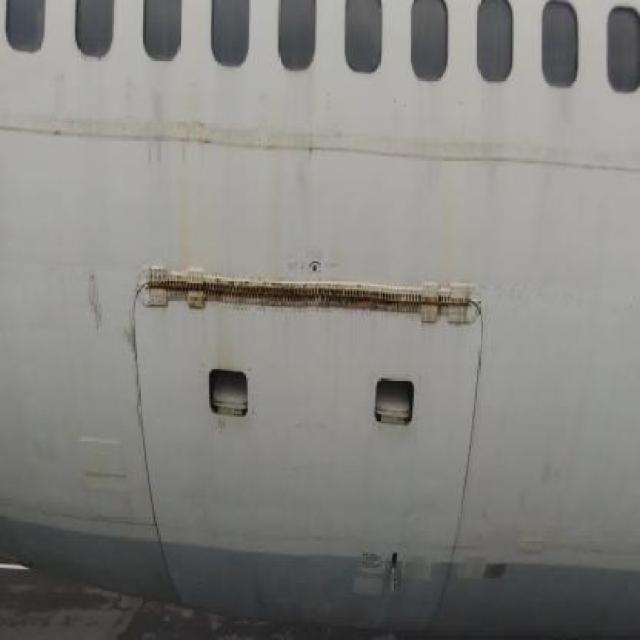Scartch: (184, 98, 331, 230)
